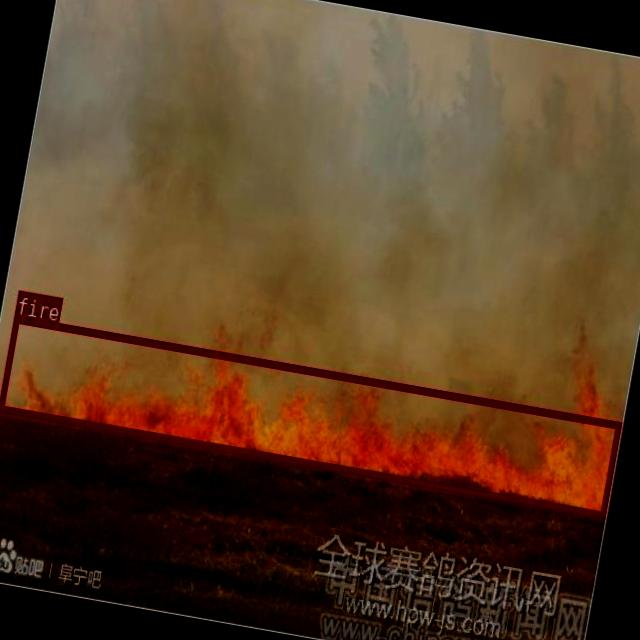fire: (0, 313, 621, 517)
